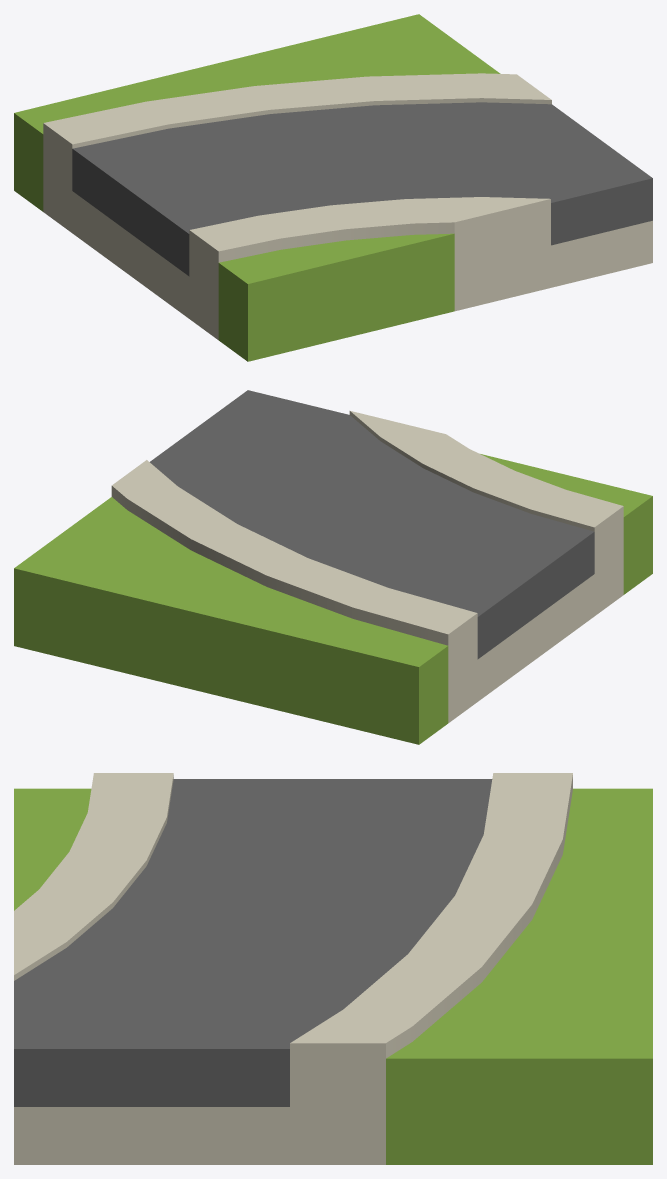
File: tile149.fbx
3 views of the same model, one above another, from view 1: azimuth 30°, elevation 25°; view 2: azimuth 150°, elevation 25°; view 3: azimuth 270°, elevation 25° (orthographic). The views are drawn at different scales.
Parts seen in each view (by area): view 1: tile149; view 2: tile149; view 3: tile149.
Part boxes in pixels (<box>): tile149: <box>14,14,652,361</box>; tile149: <box>14,390,652,744</box>; tile149: <box>14,773,652,1164</box>.
Bounding box in the file's own units: 10 × 2.1 × 10.
